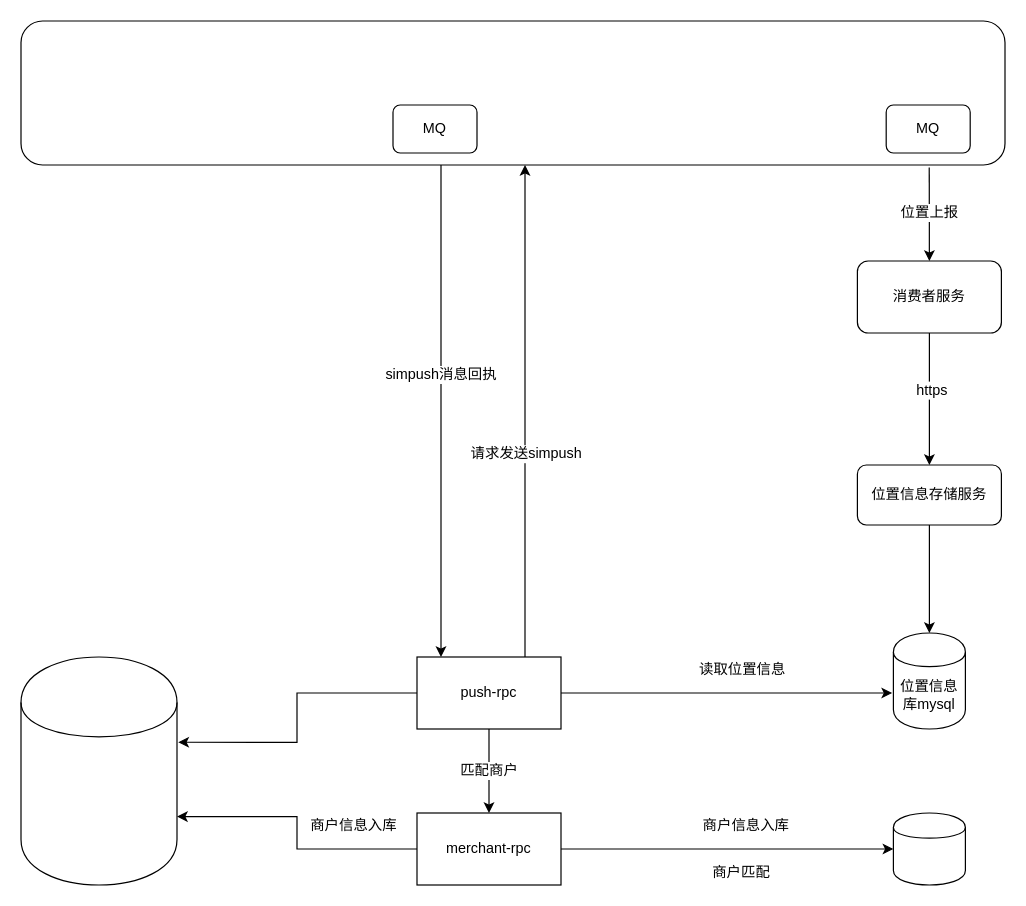
This 1026x906 diagram has some shape labels left out. The box of each missing label's shape, as (x1, y1, x2, y2) in pixels:
mysql: (20, 656, 177, 885)
redis: (892, 812, 965, 885)
香港系统: (20, 20, 1005, 165)
